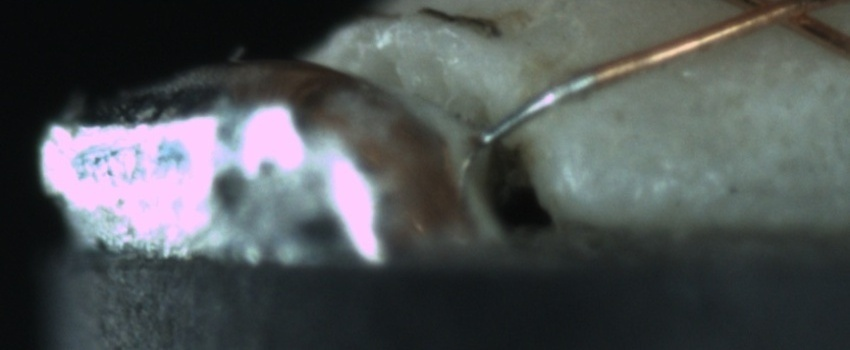CL: (710, 1, 835, 38)
TS: (478, 75, 598, 144)
TTCW: (479, 65, 611, 144)
